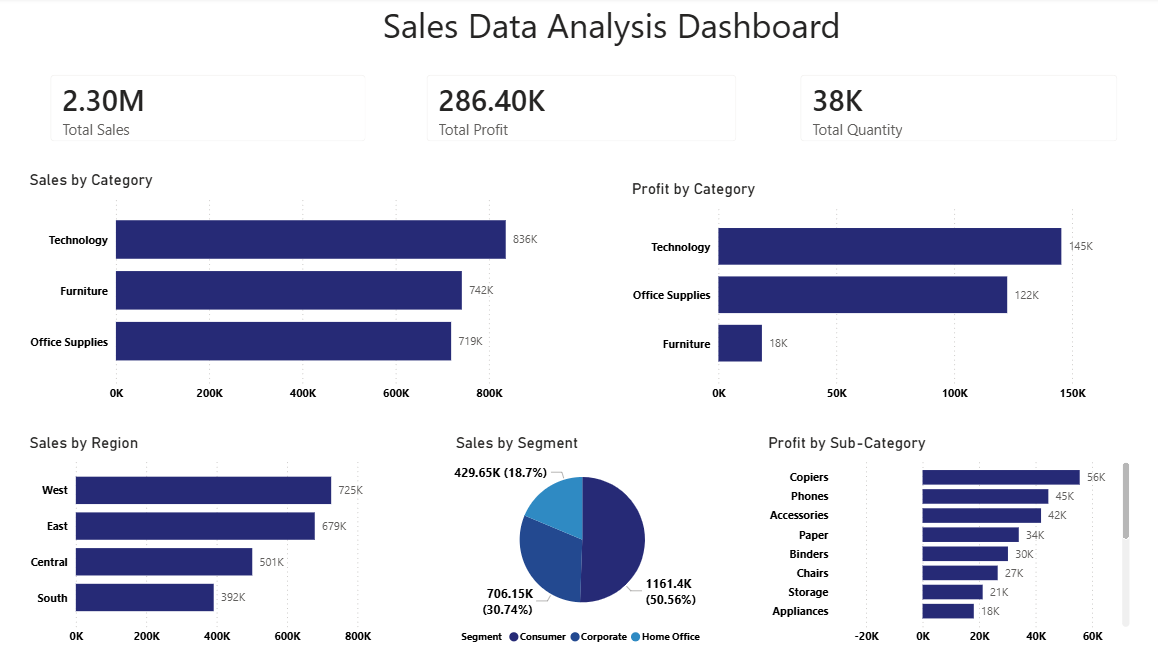

The page's visual inventory and layout, read from the dashboard file:
{"tool":"powerbi","page":{"name":"Page 1","canvas":[1280,720],"ordinal":0},"visuals":[{"type":"cardVisual","fields":{"Data":["Sum(SampleSuperstore.Sales)"]},"box":[38.4,68.6,380.1,107],"z":0},{"type":"cardVisual","fields":{"Data":["Sum(SampleSuperstore.Profit)"]},"box":[451.5,68.6,374.6,107],"z":1000},{"type":"cardVisual","fields":{"Data":["Sum(SampleSuperstore.Quantity)"]},"box":[861.8,68.6,382.8,107],"z":2000},{"type":"clusteredBarChart","title":"Sales by Category","fields":{"Category":["SampleSuperstore.Category"],"Y":["Sum(SampleSuperstore.Sales)"]},"box":[27.4,190.7,601,262.1],"z":3000},{"type":"clusteredBarChart","title":"Profit by Category","fields":{"Category":["SampleSuperstore.Category"],"Y":["Sum(SampleSuperstore.Profit)"]},"box":[688.9,200.3,555.7,252.5],"z":4000},{"type":"clusteredBarChart","title":"Sales by Region","fields":{"Category":["SampleSuperstore.Region"],"Y":["Sum(SampleSuperstore.Sales)"]},"box":[27.4,478.9,403.4,241.5],"z":5000},{"type":"clusteredBarChart","title":"Profit by Sub-Category","fields":{"Category":["SampleSuperstore.Sub-Category"],"Y":["Sum(SampleSuperstore.Profit)"]},"box":[838.3,478.3,406.7,241.7],"z":6000},{"type":"pieChart","title":"Sales by Segment","fields":{"Category":["SampleSuperstore.Segment"],"Y":["Sum(SampleSuperstore.Sales)"]},"box":[495.4,478.9,288.2,241.5],"z":7000},{"type":"textbox","box":[375,0,583.3,68.3],"z":8000}]}

Visuals, with their boxes in screenshot pixels (x1, y1, x2, y2), scaled from the page's 1280x720 canvas onto the 1158x650 screenshot:
cardVisual - Sum(SampleSuperstore.Sales): <box>35,62,379,159</box>
cardVisual - Sum(SampleSuperstore.Profit): <box>408,62,747,159</box>
cardVisual - Sum(SampleSuperstore.Quantity): <box>780,62,1126,159</box>
"Sales by Category" clusteredBarChart: <box>25,172,569,409</box>
"Profit by Category" clusteredBarChart: <box>623,181,1126,409</box>
"Sales by Region" clusteredBarChart: <box>25,432,390,649</box>
"Profit by Sub-Category" clusteredBarChart: <box>758,432,1126,649</box>
"Sales by Segment" pieChart: <box>448,432,709,649</box>
textbox: <box>339,0,867,62</box>
